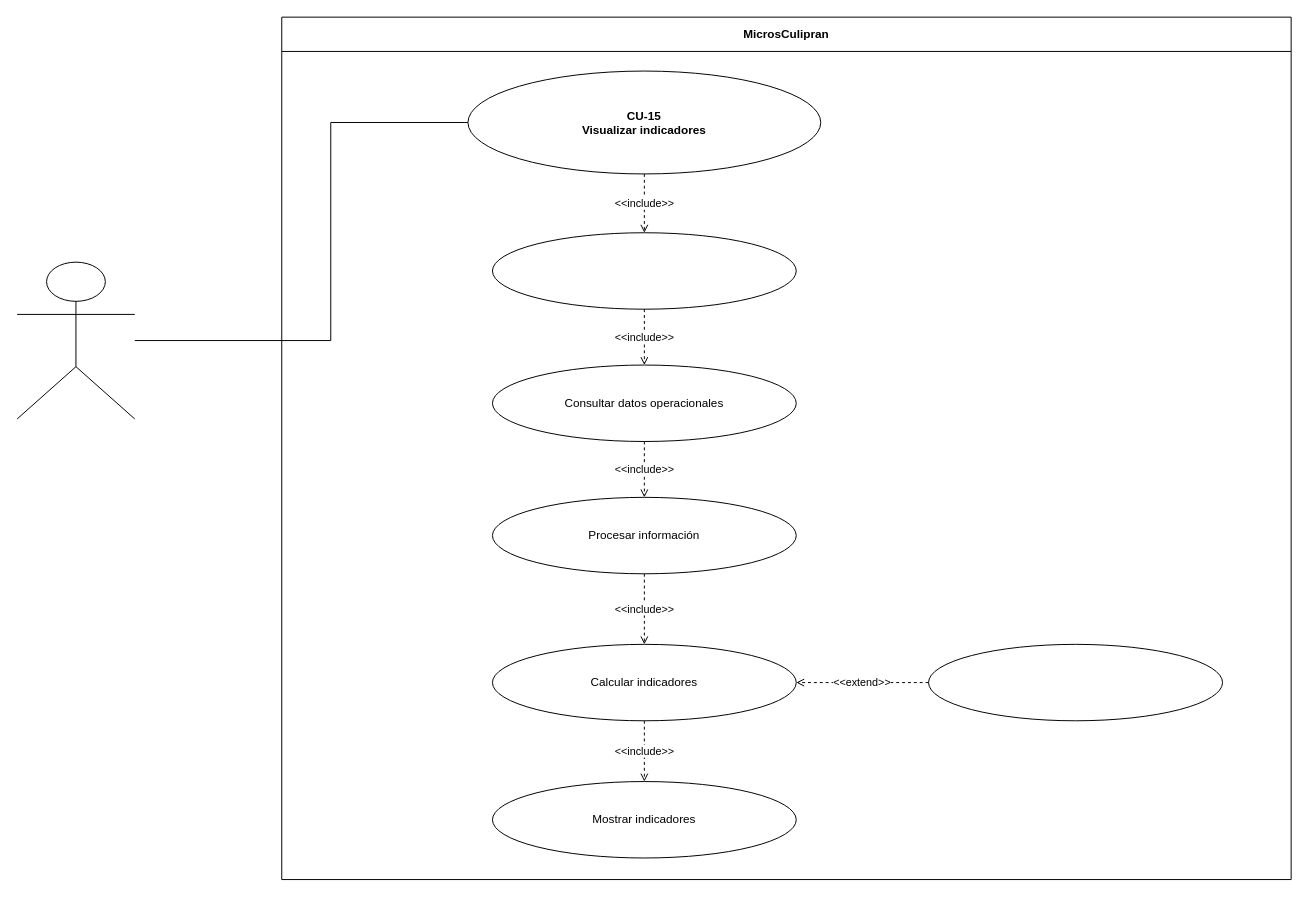
Image size: 1308x897. Some labels were removed from this diagram. Each missing label, with the centre of its shape:
Administrador: (75,340)
Autenticar administrador: (643,270)
Informar datos insuficientes: (1075,682)
